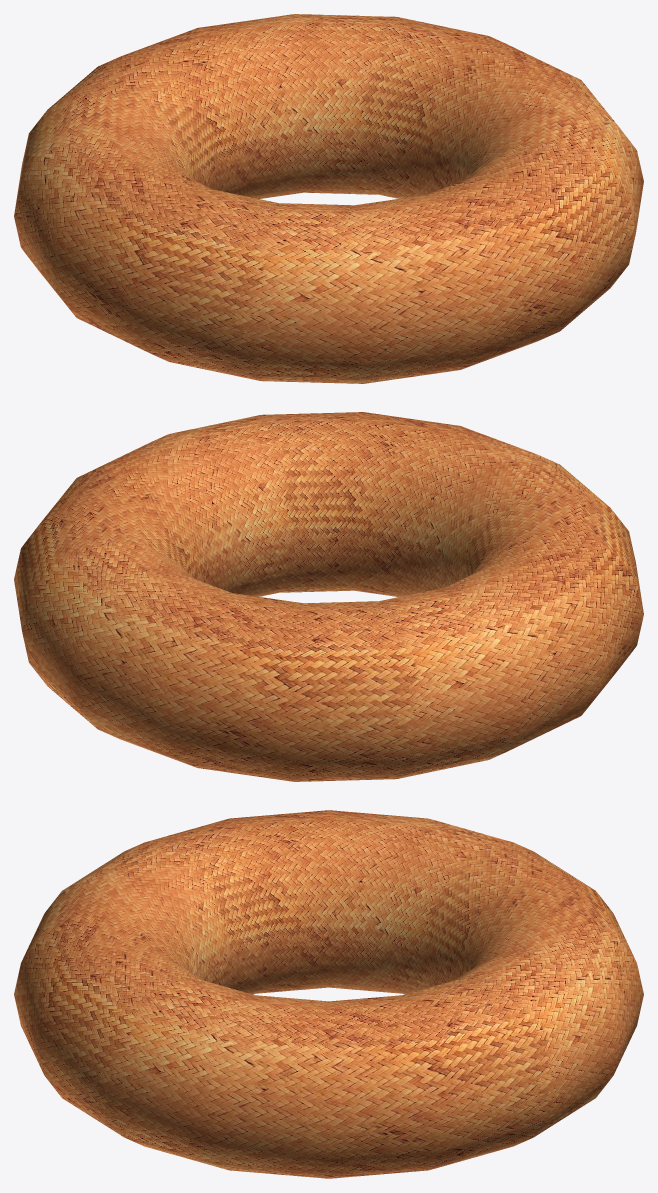
File: donutish.dae
3 views of the same model, one above another, from view 1: azimuth 30°, elevation 25°; view 2: azimuth 150°, elevation 25°; view 3: azimuth 270°, elevation 25° (orthographic).
Visible parts, largest first — view 1: ルートパート; view 2: ルートパート; view 3: ルートパート.
Boxes of the visible parts, box(x1,y1,x2,y2) form: ルートパート: box(14, 14, 643, 383); ルートパート: box(14, 412, 643, 781); ルートパート: box(14, 810, 643, 1178).
Bounding box in the file's own units: 70.99 × 20 × 70.99.
Materials: 1 (1 with a texture image).
